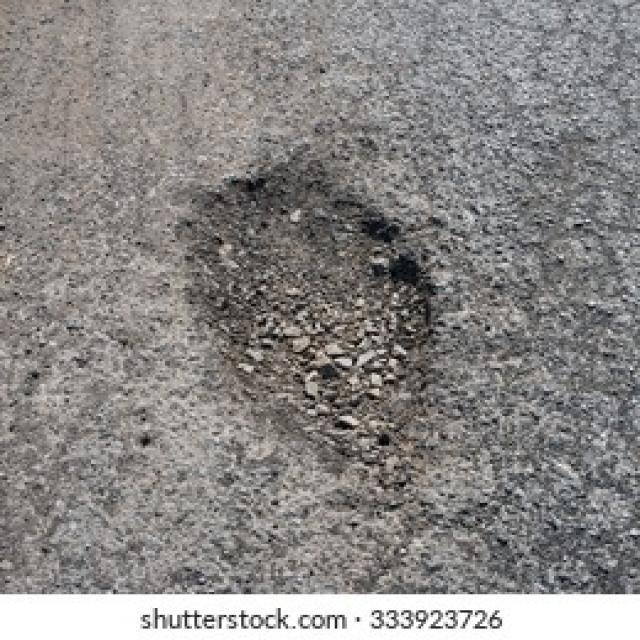Pothole: (184, 148, 433, 462)
